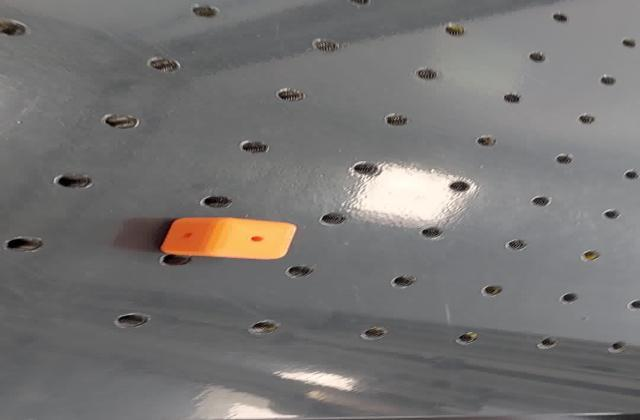cube: (157, 214, 302, 264)
